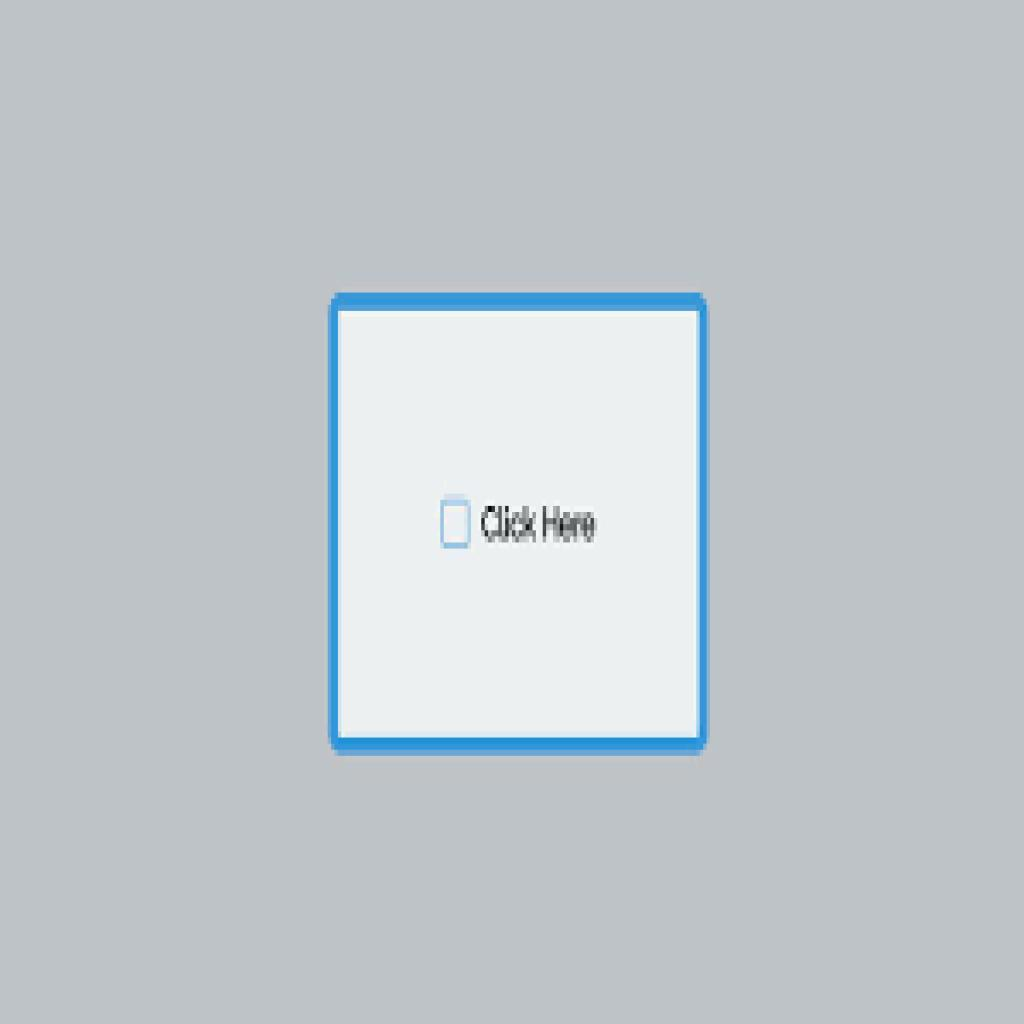checkbox: (440, 500, 472, 549)
